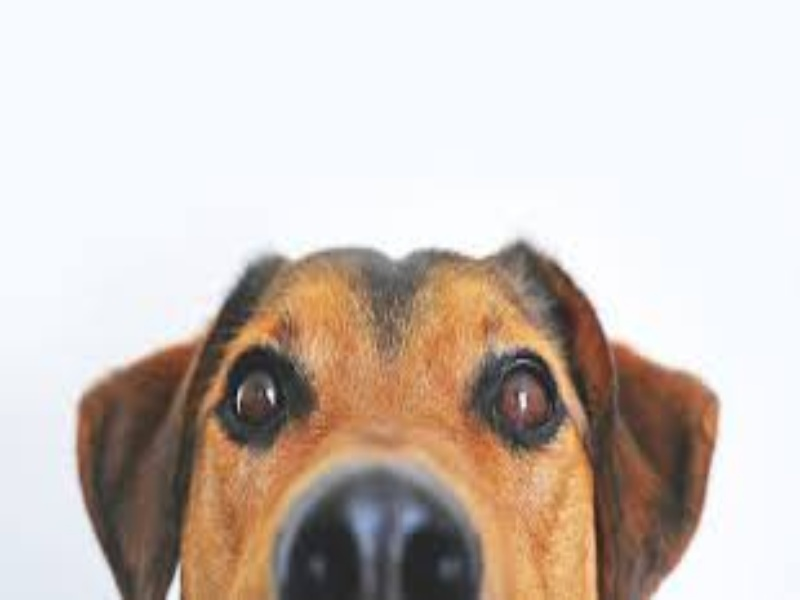dog: (57, 240, 728, 594)
